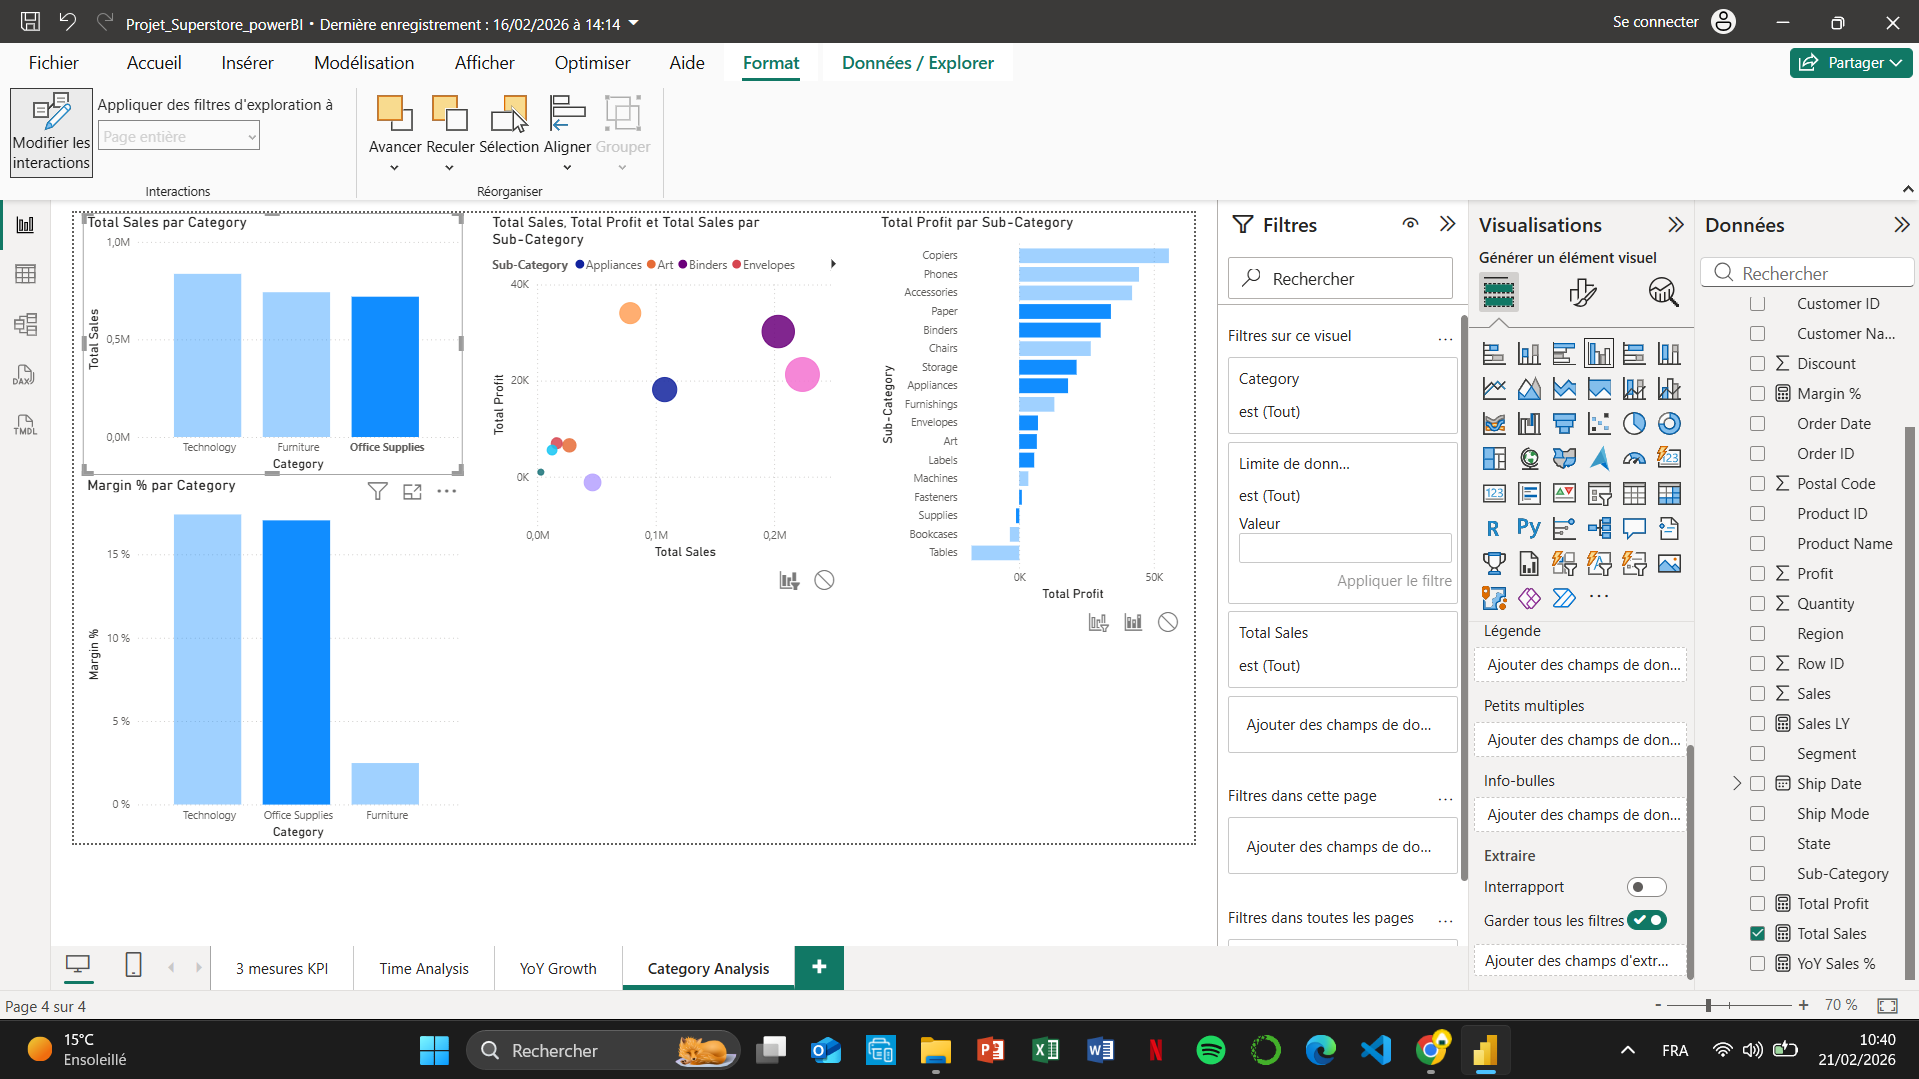

Layout of this report page (visuals, bound fields, positions):
{"tool":"powerbi","page":{"name":"Category Analysis","canvas":[1280,720],"ordinal":3},"visuals":[{"type":"clusteredColumnChart","fields":{"Category":["Fact_Sales.Category"],"Y":["Fact_Sales.Total Sales"]},"box":[10,0,434.3,300],"z":0},{"type":"clusteredBarChart","fields":{"Category":["Fact_Sales.Sub-Category"],"Y":["Fact_Sales.Total Profit"]},"box":[917.1,0,362.9,448.6],"z":1},{"type":"clusteredColumnChart","fields":{"Category":["Fact_Sales.Category"],"Y":["Fact_Sales.Margin %"]},"box":[10,300,434.3,420],"z":2},{"type":"scatterChart","fields":{"X":["Fact_Sales.Total Sales"],"Y":["Fact_Sales.Total Profit"],"Series":["Fact_Sales.Sub-Category"],"Size":["Fact_Sales.Total Sales"]},"box":[472.9,0,414.3,400],"z":3}]}

Visuals, with their boxes on the page's 1280x720 design canvas (x1, y1, x2, y2). These are canvas units, not pixel positions in the 1919x1079 screenshot, which may show the page scaled, cropped or inside an application window:
clusteredColumnChart - Fact_Sales.Category x Fact_Sales.Total Sales: bbox=[10, 0, 444, 300]
clusteredBarChart - Fact_Sales.Sub-Category x Fact_Sales.Total Profit: bbox=[917, 0, 1280, 449]
clusteredColumnChart - Fact_Sales.Category x Fact_Sales.Margin %: bbox=[10, 300, 444, 720]
scatterChart - Fact_Sales.Total Sales x Fact_Sales.Total Profit: bbox=[473, 0, 887, 400]
